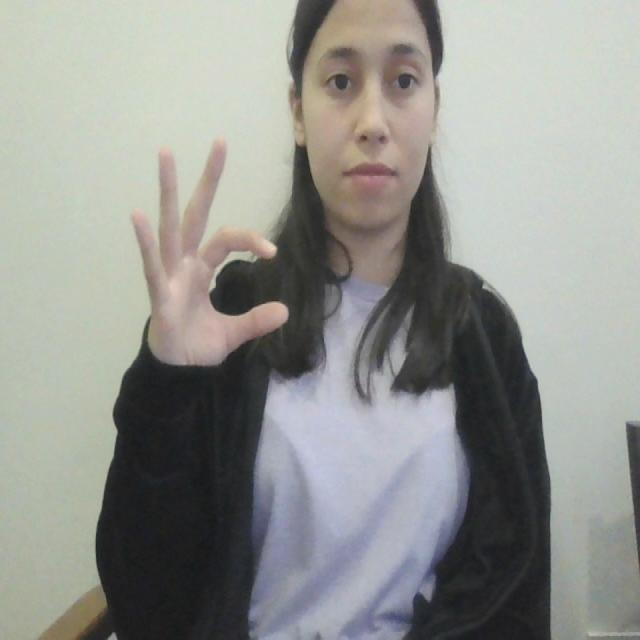Tuvalet: (111, 110, 306, 388)
